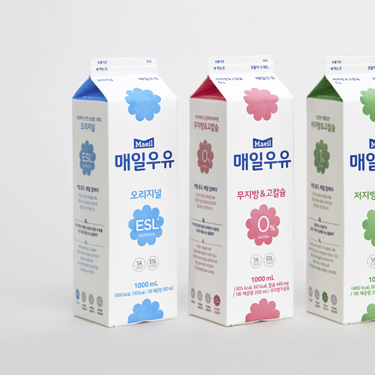milk: (73, 55, 375, 329)
